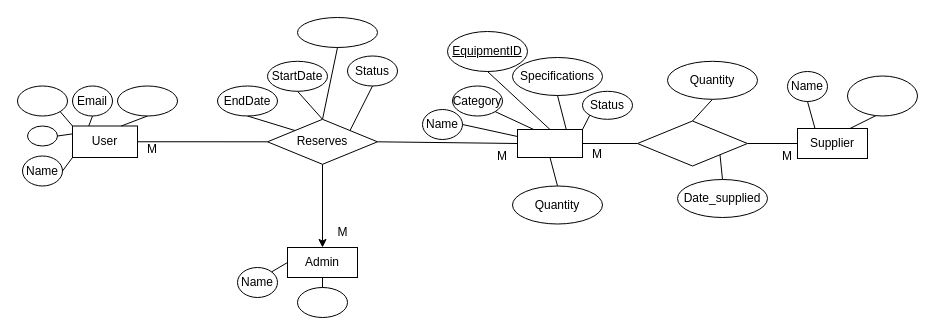
This 935x335 diagram has some shape labels left out. The centre of each missing label's shape, as x and y in pixels:
Equipment: point (549, 143)
ID: point (322, 302)
Password: point (147, 100)
RequestDate: point (337, 32)
Role: point (42, 135)
Supplied: point (692, 143)
SupplierID: point (882, 95)
UserID: point (42, 100)
